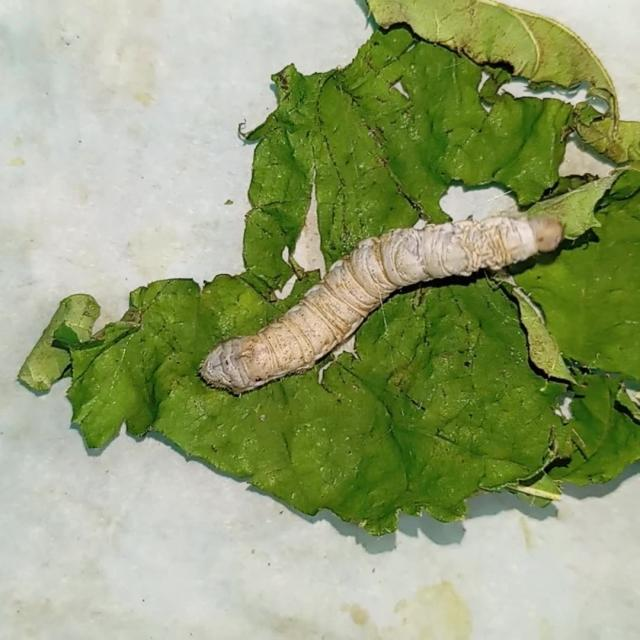Grasserie: (192, 202, 575, 406)
